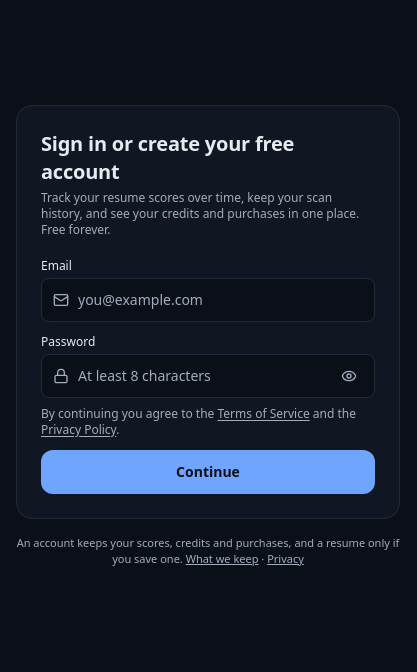
Test case: the password path: sign in first, a new account only when asked › a refused password never makes an account by itself: the typo address gets an explicit offer (S12-088)
Type "jane@gmial.com" into the field labelled "Email".
click(208, 300); type("jane@gmial.com")  # box [41,278,375,322]
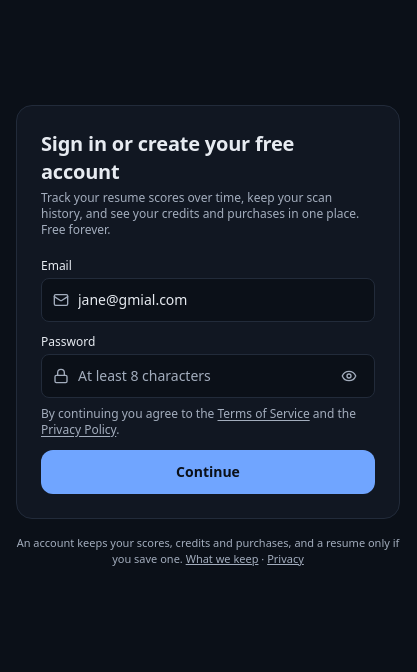
Type "my-real-password" into the password field labelled "Password".
click(208, 376); type("my-real-password")  # box [41,354,375,398]
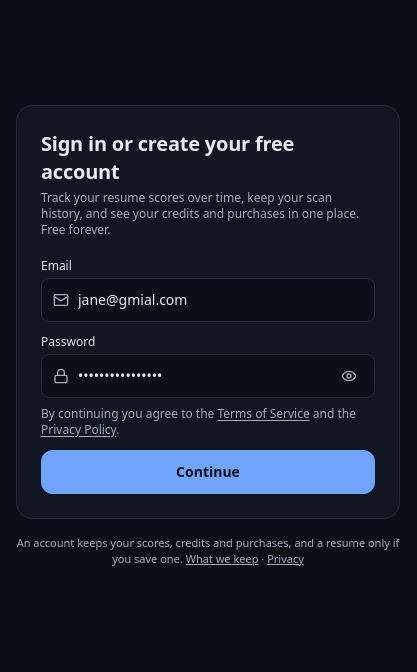
Click the button "Continue".
click(208, 472)  # box [41,450,375,494]
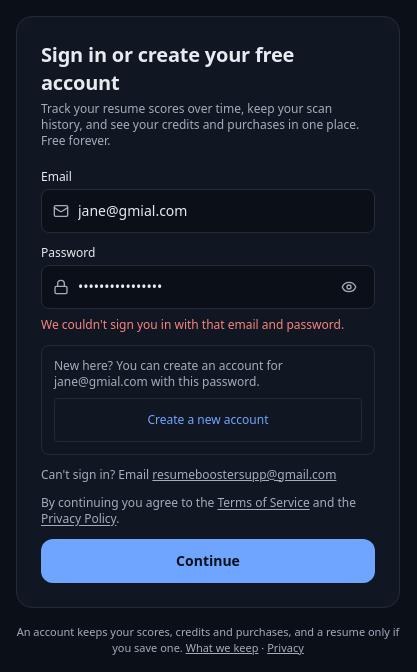
Expected: the message reads "We couldn't sign you in with that email and password.", [41,316,344,332]
Expected: the element with test id "offer-create" shows "New here? You can create an account for jane@gmial.com with this password.", [54,356,283,390]
Expected: the text "Can't sign in? Email resumeboostersupp@gmail.com" is shown, [41,466,375,482]
Replace the text in the field labelled "Email" with "jane@gmail.com" at (208, 210), box [41,188,375,232]
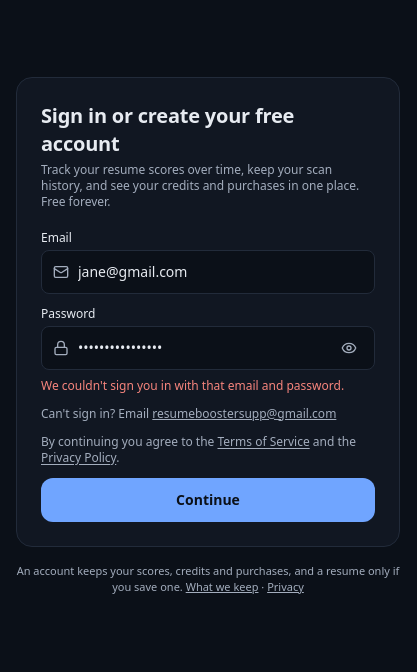
Expected: the element with test id "offer-create" is gone
